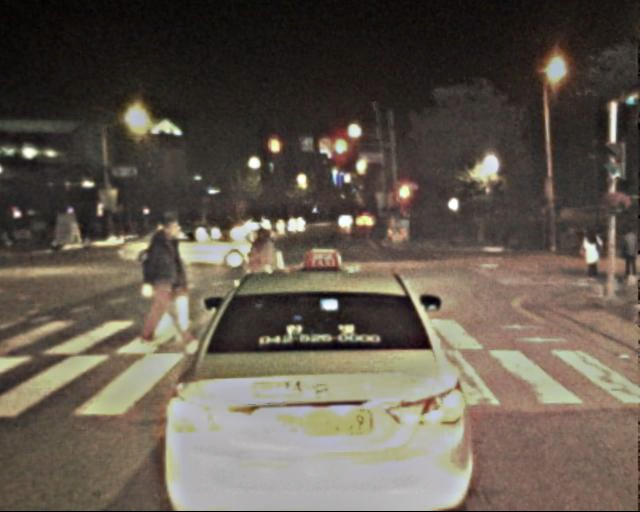person: (135, 216, 190, 351), (240, 223, 281, 322), (581, 224, 604, 281), (619, 224, 640, 284)
